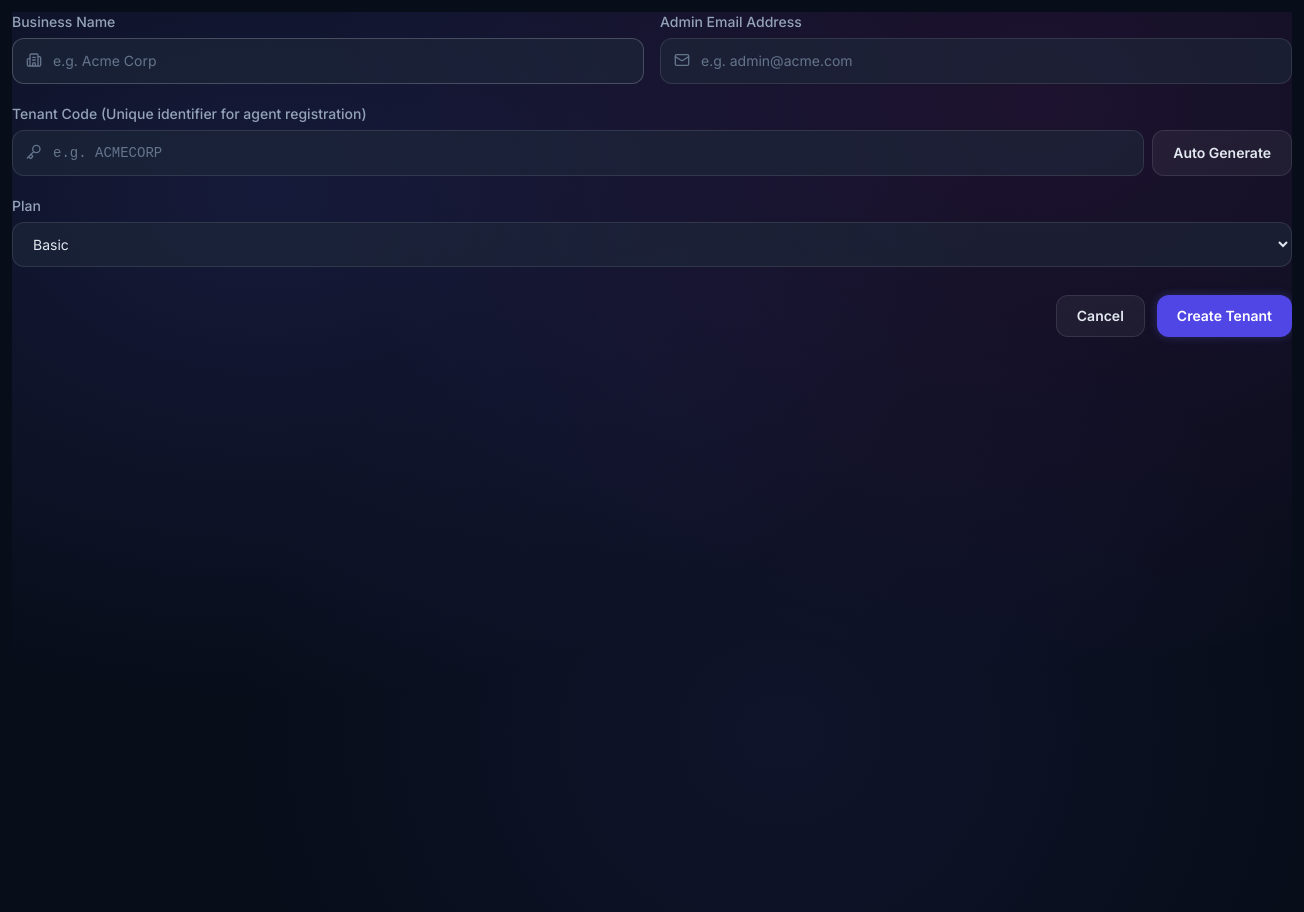
CreateTenantForm › validates required fields
Click the button "Create Tenant". click: (1224, 316)
box: [1157,295,1292,337]
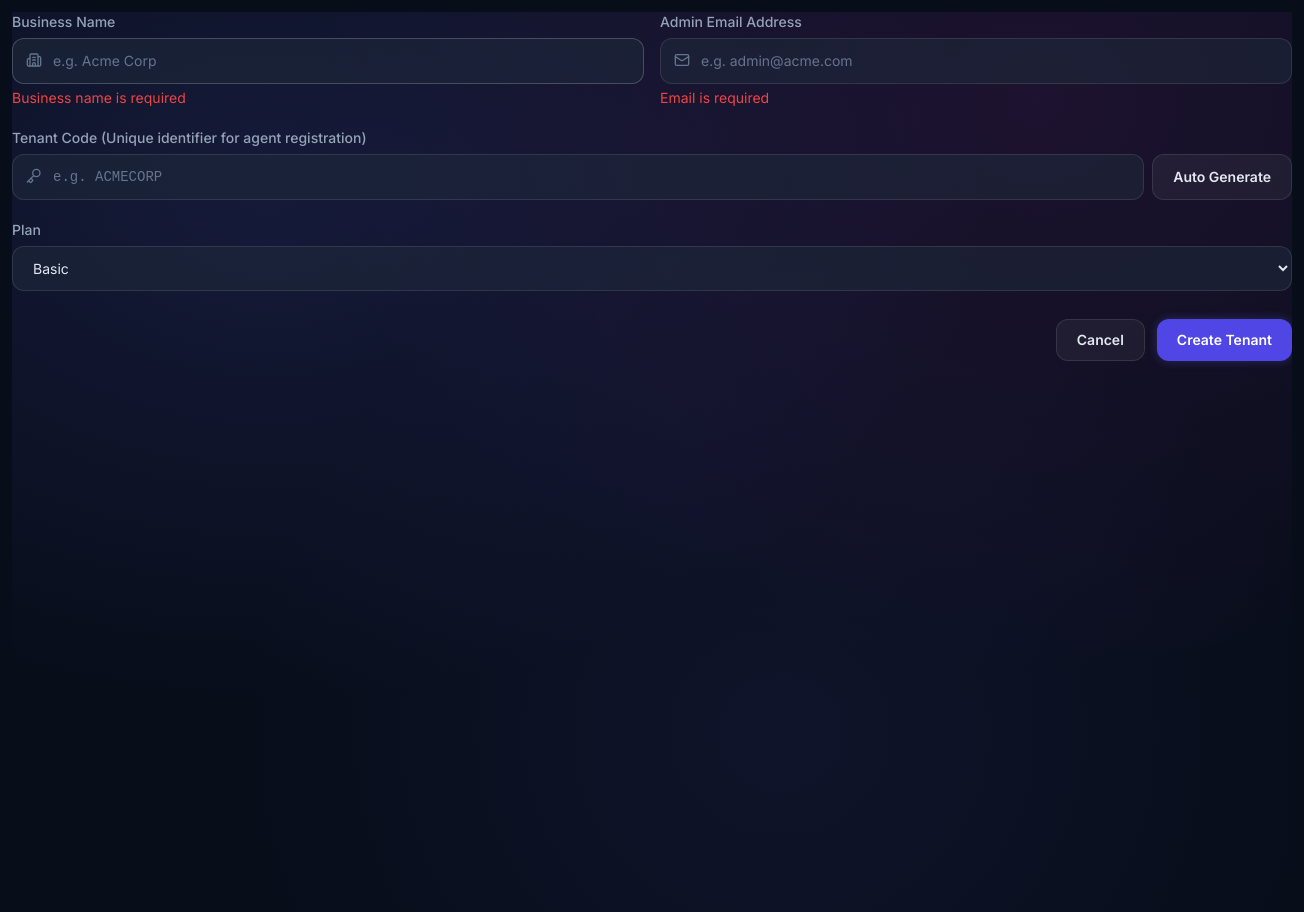
Check: the text "Business name is required" is shown, box [12,89,186,106]
Check: the text "Email is required" is shown, box [660,89,769,106]
